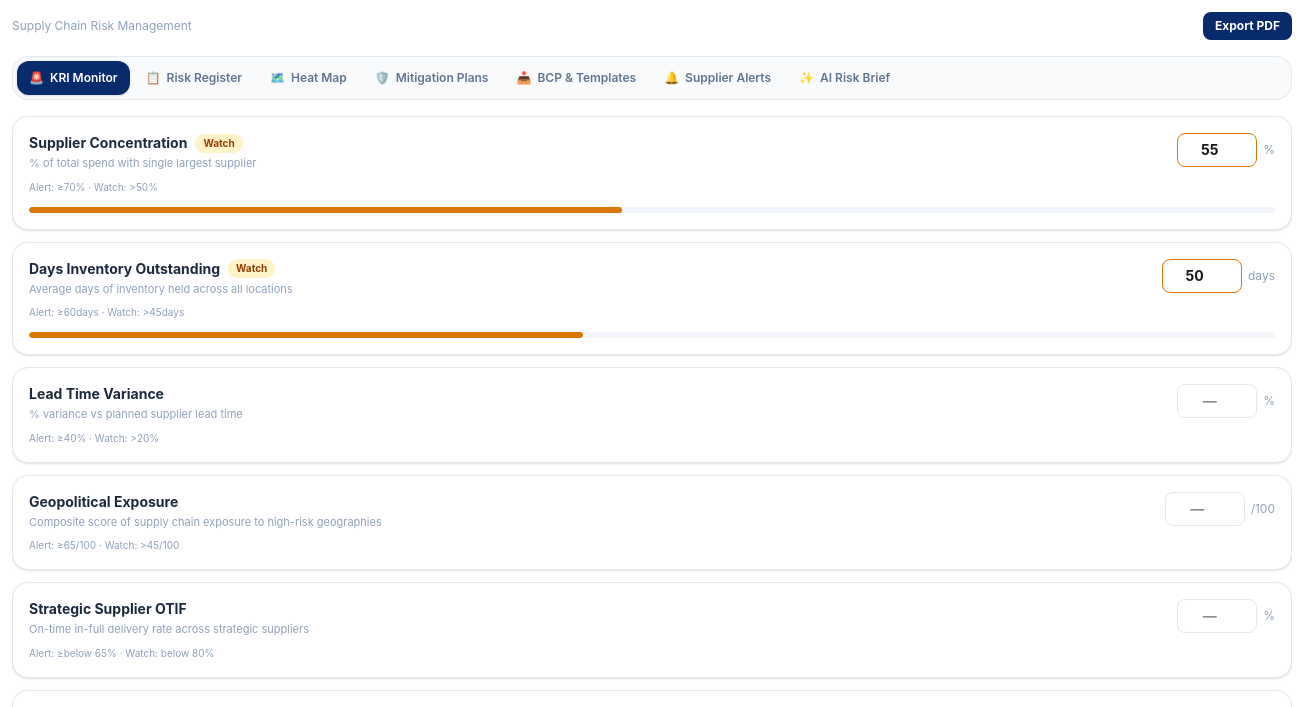
it: KRIDashboard — Generate button › Generate button is enabled once KRI values are stored
Click the tab "✨ AI Risk Brief" at {"x": 845, "y": 78}, box [787,61,902,95]
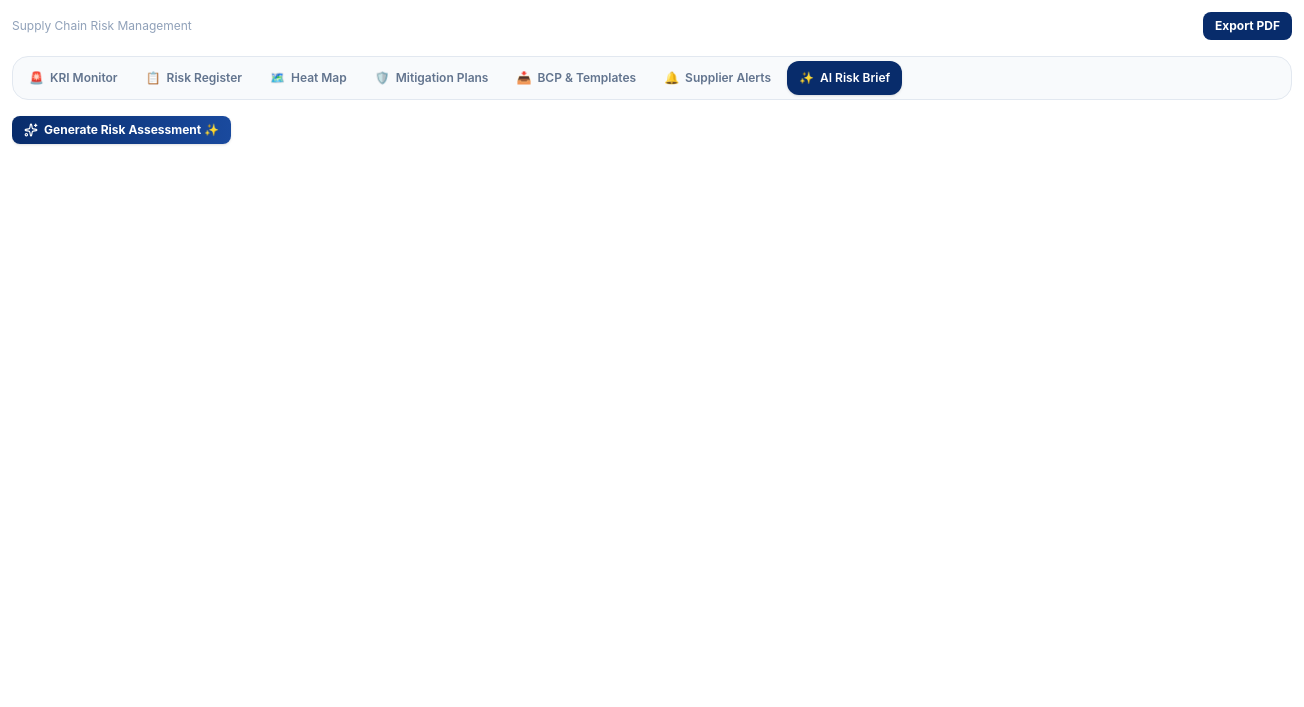
Check: the button "Generate Risk Assessment ✨" is enabled, box [12,116,231,144]
